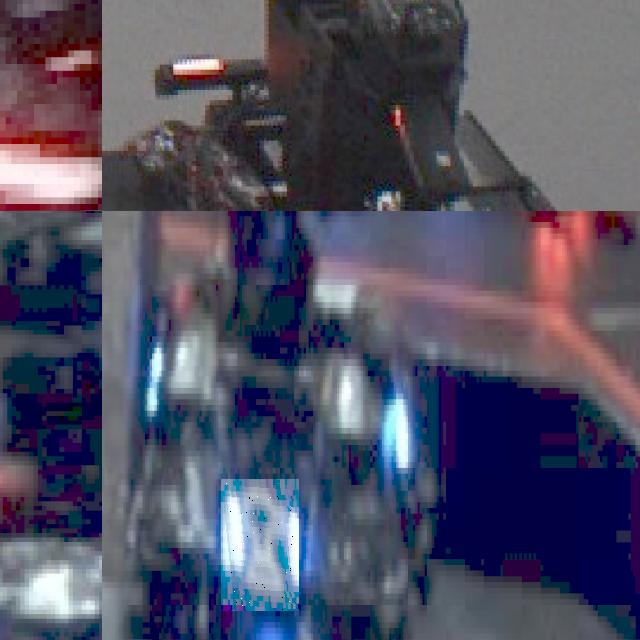Bs: (221, 479, 299, 611)
